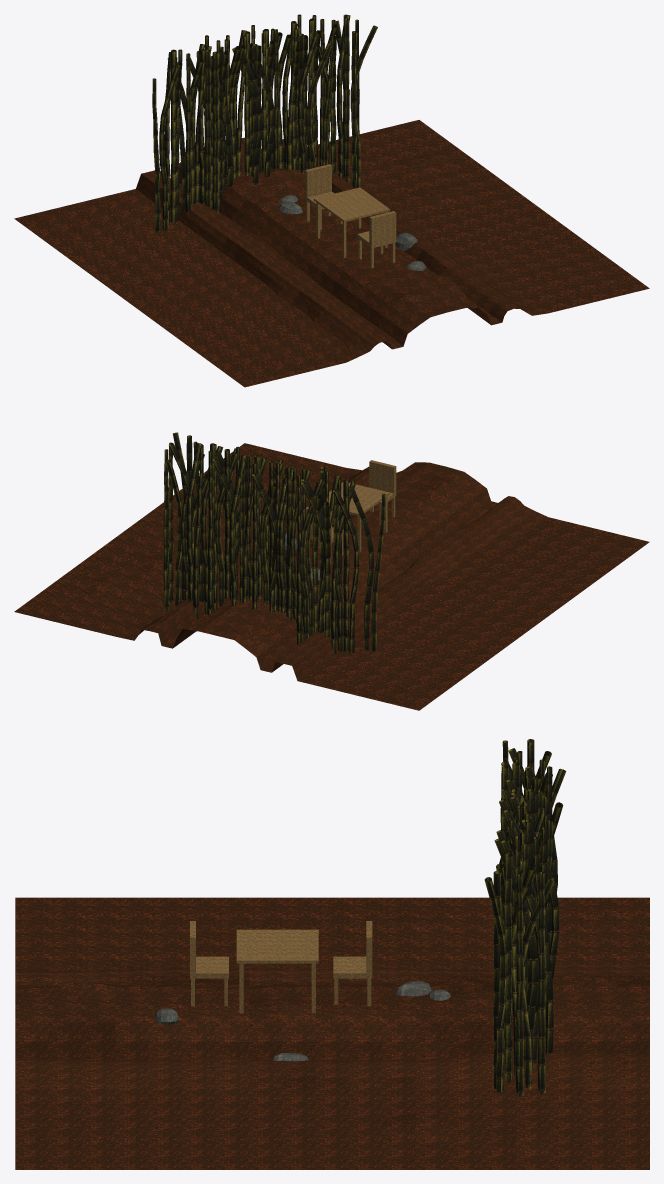
Rendered from Sawah_map.fbx.
3 views of the same model, one above another, from view 1: azimuth 30°, elevation 25°; view 2: azimuth 150°, elevation 25°; view 3: azimuth 270°, elevation 25° (orthographic). The views are drawn at different scales.
Visible parts, largest first — view 1: Plane, Cylinder.036, Table, Chair.001, Chair; view 2: Plane, Cylinder.036, Chair.001, Table; view 3: Plane, Cylinder.036, Table, Chair, Chair.001.
Boxes of the visible parts, x1,y1,x2,y2 form: Plane: (14,120,649,387); Cylinder.036: (152,14,377,232); Table: (314,187,389,257); Chair.001: (357,211,396,268); Chair: (305,164,342,230); Plane: (14,443,649,710); Cylinder.036: (163,432,385,653); Chair.001: (369,460,396,525); Table: (328,482,389,551); Plane: (15,897,649,1169); Cylinder.036: (484,739,566,1096); Table: (236,929,318,1013); Chair: (333,921,372,1006); Chair.001: (190,921,228,1006).
Bounding box in the file's own units: 899 × 399 × 888.
1 material, 1 textured.
